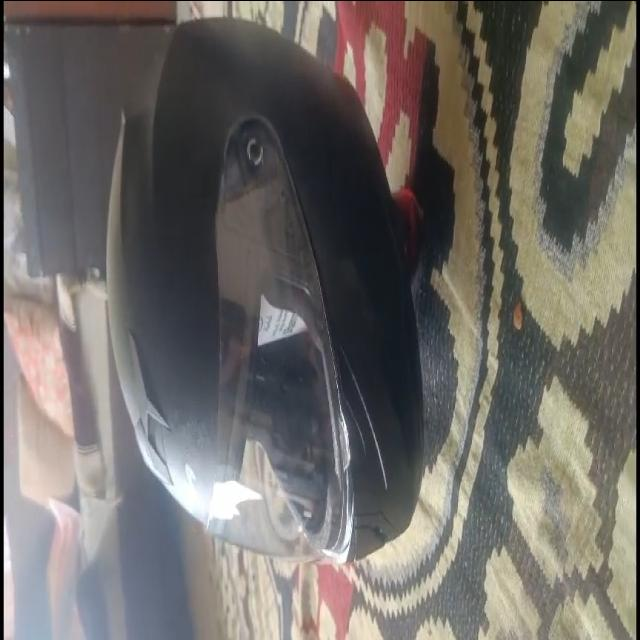Helmet: (101, 15, 421, 564)
